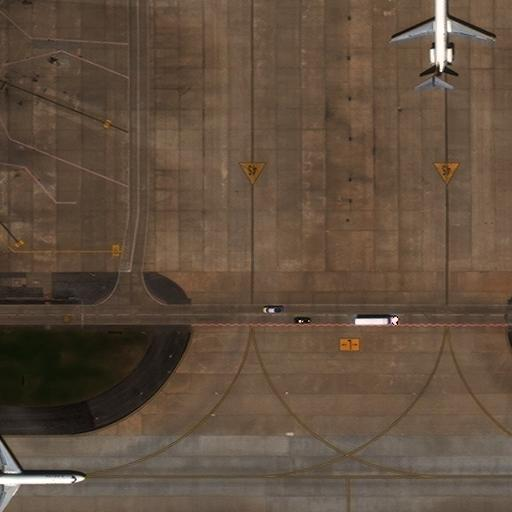Medium Civil Transport: (388, 0, 496, 90), (0, 435, 89, 512)
